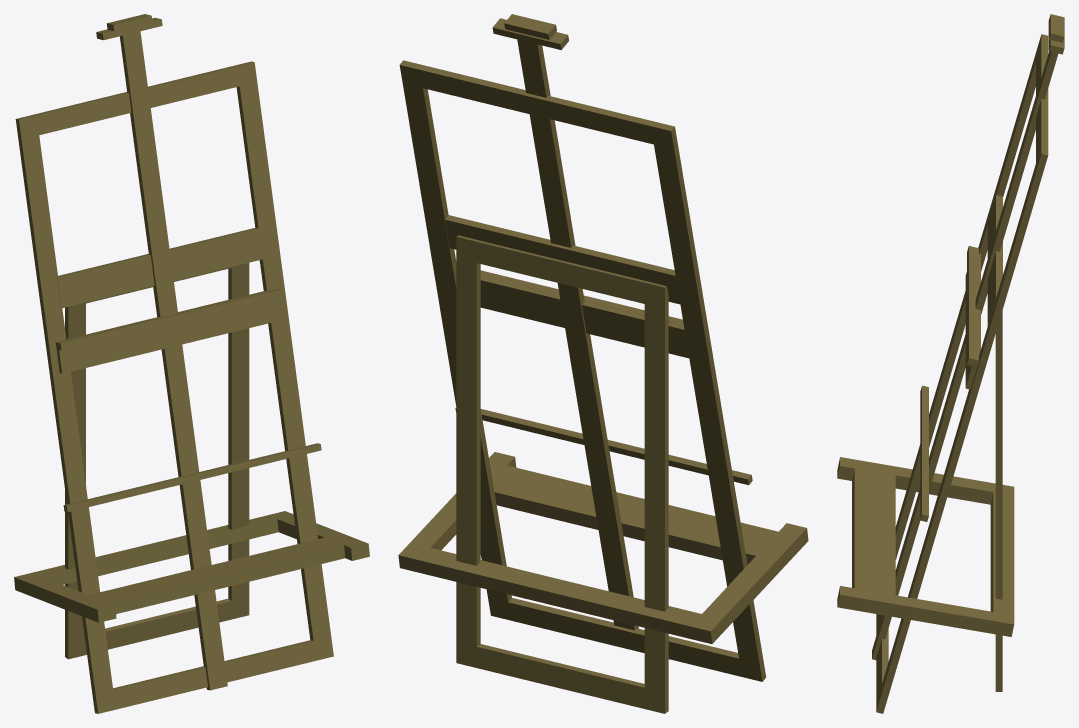
Rendered from Easel.fbx.
3 renders of one model, left to right at view 1: azimuth 30°, elevation 25°; view 2: azimuth 150°, elevation 25°; view 3: azimuth 270°, elevation 25°, orthographic. The views are drawn at different scales.
Parts seen in each view (by area): view 1: Rectangl11, Rectangl10, Rectangle1, Rectangle3, Rectangle4, Rectangle5, Rectangle7, Rectangle0; view 2: Rectangl11, Rectangle3, Rectangl10, Rectangle1, Rectangle5, Rectangle4, Rectangle7, Rectangle0, Rectangle9, Rectangle2; view 3: Rectangl10, Rectangl11, Rectangle1, Rectangle3, Rectangle4, Rectangle7, Rectangle0, Rectangle5, Rectangle9.
Boxes of the visible parts, x1=… form: Rectangl11: x1=15, y1=61, x2=333, y2=713; Rectangl10: x1=14, y1=511, x2=369, y2=622; Rectangle1: x1=119, y1=31, x2=227, y2=690; Rectangle3: x1=65, y1=263, x2=249, y2=659; Rectangle4: x1=57, y1=227, x2=263, y2=308; Rectangle5: x1=55, y1=288, x2=283, y2=373; Rectangle7: x1=63, y1=443, x2=321, y2=512; Rectangle0: x1=57, y1=288, x2=282, y2=350; Rectangl11: x1=399, y1=60, x2=766, y2=681; Rectangle3: x1=456, y1=235, x2=668, y2=713; Rectangl10: x1=398, y1=452, x2=808, y2=643; Rectangle1: x1=517, y1=39, x2=638, y2=630; Rectangle5: x1=480, y1=276, x2=689, y2=358; Rectangle4: x1=445, y1=215, x2=680, y2=304; Rectangle7: x1=455, y1=407, x2=752, y2=485; Rectangle0: x1=480, y1=270, x2=683, y2=325; Rectangle9: x1=504, y1=14, x2=556, y2=39; Rectangle2: x1=492, y1=18, x2=568, y2=50; Rectangl10: x1=837, y1=457, x2=1014, y2=636; Rectangl11: x1=876, y1=34, x2=1048, y2=713; Rectangle1: x1=872, y1=51, x2=1058, y2=659; Rectangle3: x1=995, y1=310, x2=1002, y2=691; Rectangle4: x1=987, y1=195, x2=1002, y2=326; Rectangle7: x1=920, y1=385, x2=928, y2=521; Rectangle0: x1=967, y1=246, x2=975, y2=366; Rectangle5: x1=965, y1=247, x2=980, y2=389; Rectangle9: x1=1048, y1=14, x2=1064, y2=42.
Bounding box in the file's own units: 362 × 775 × 252.
